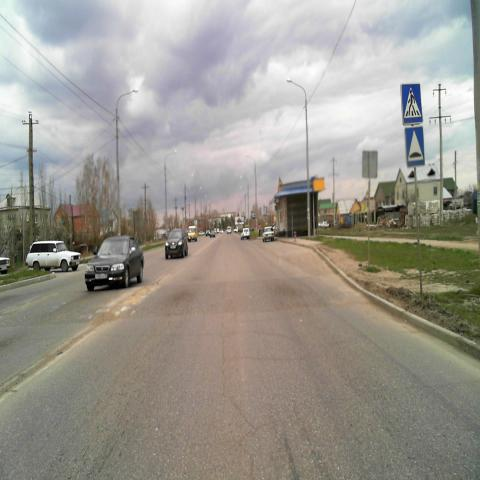5_19_1: (401, 84, 422, 125)
5_20: (406, 125, 426, 168)
